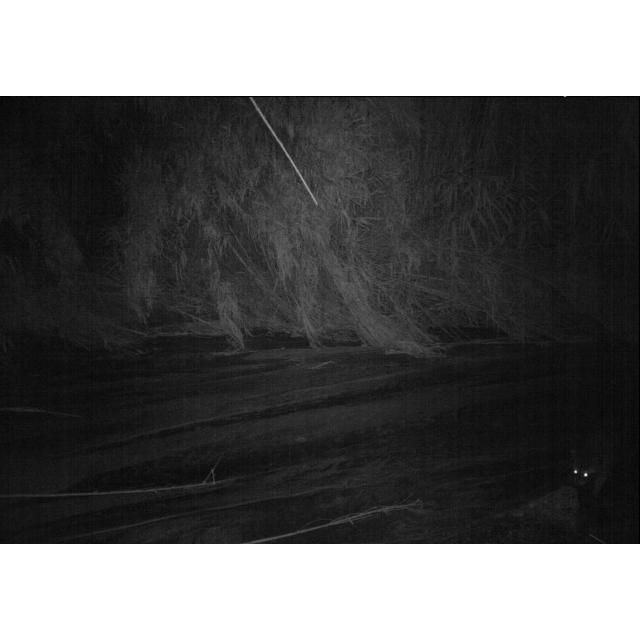animals: (568, 429, 622, 501)
